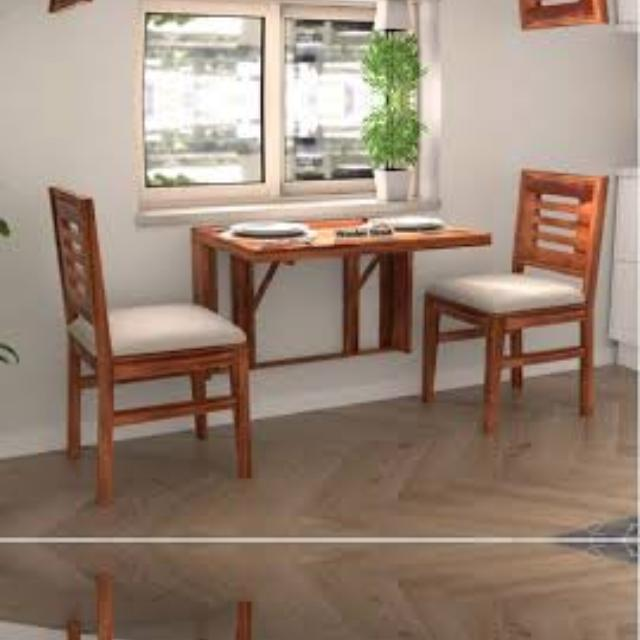obstacle: (30, 156, 276, 489), (432, 164, 618, 430), (29, 590, 276, 640), (29, 0, 276, 41), (432, 0, 618, 34)
